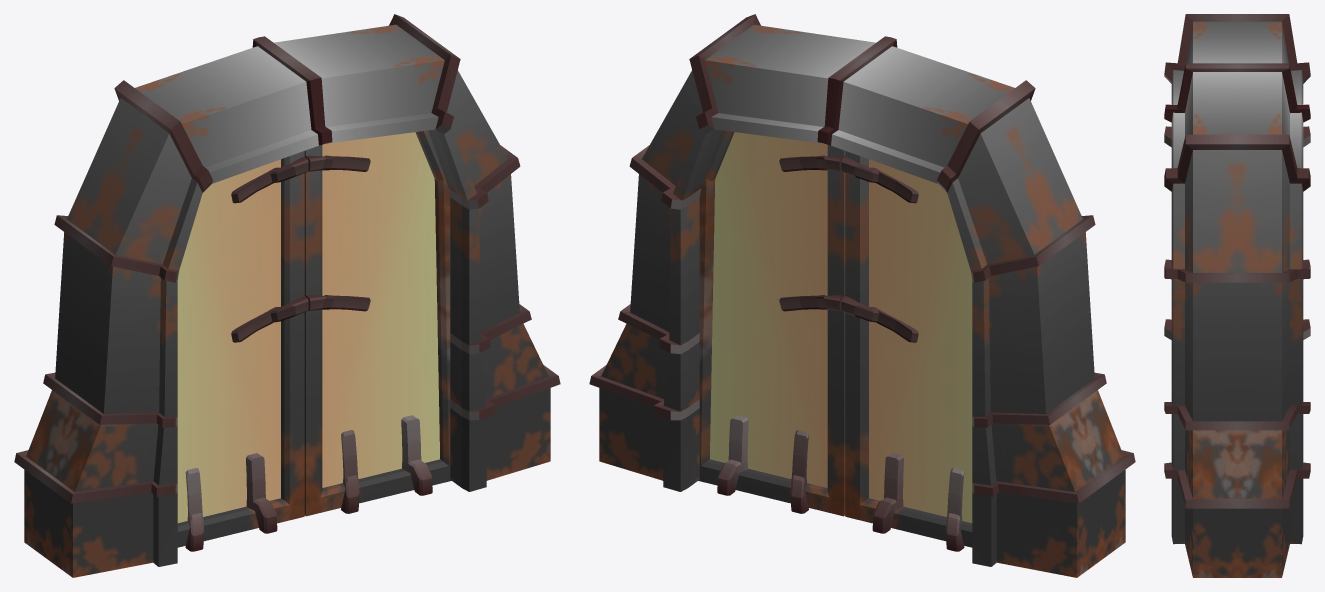
File: door-Past.fbx
3 renders of one model, left to right at view 1: azimuth 30°, elevation 25°; view 2: azimuth 150°, elevation 25°; view 3: azimuth 270°, elevation 25°, orthographic. The views are drawn at different scales.
Parts seen in each view (by area): view 1: Door Frame.001, Door.002, Door.003; view 2: Door Frame.001, Door.002, Door.003; view 3: Door Frame.001.
Boxes of the visible parts, <box> form: Door Frame.001: <box>14,14,560,577</box>; Door.002: <box>304,130,451,516</box>; Door.003: <box>177,151,308,551</box>; Door Frame.001: <box>589,14,1135,577</box>; Door.002: <box>698,130,845,516</box>; Door.003: <box>841,151,972,551</box>; Door Frame.001: <box>1164,14,1310,577</box>.
Bounding box in the file's own units: 299 × 260 × 84.52.
